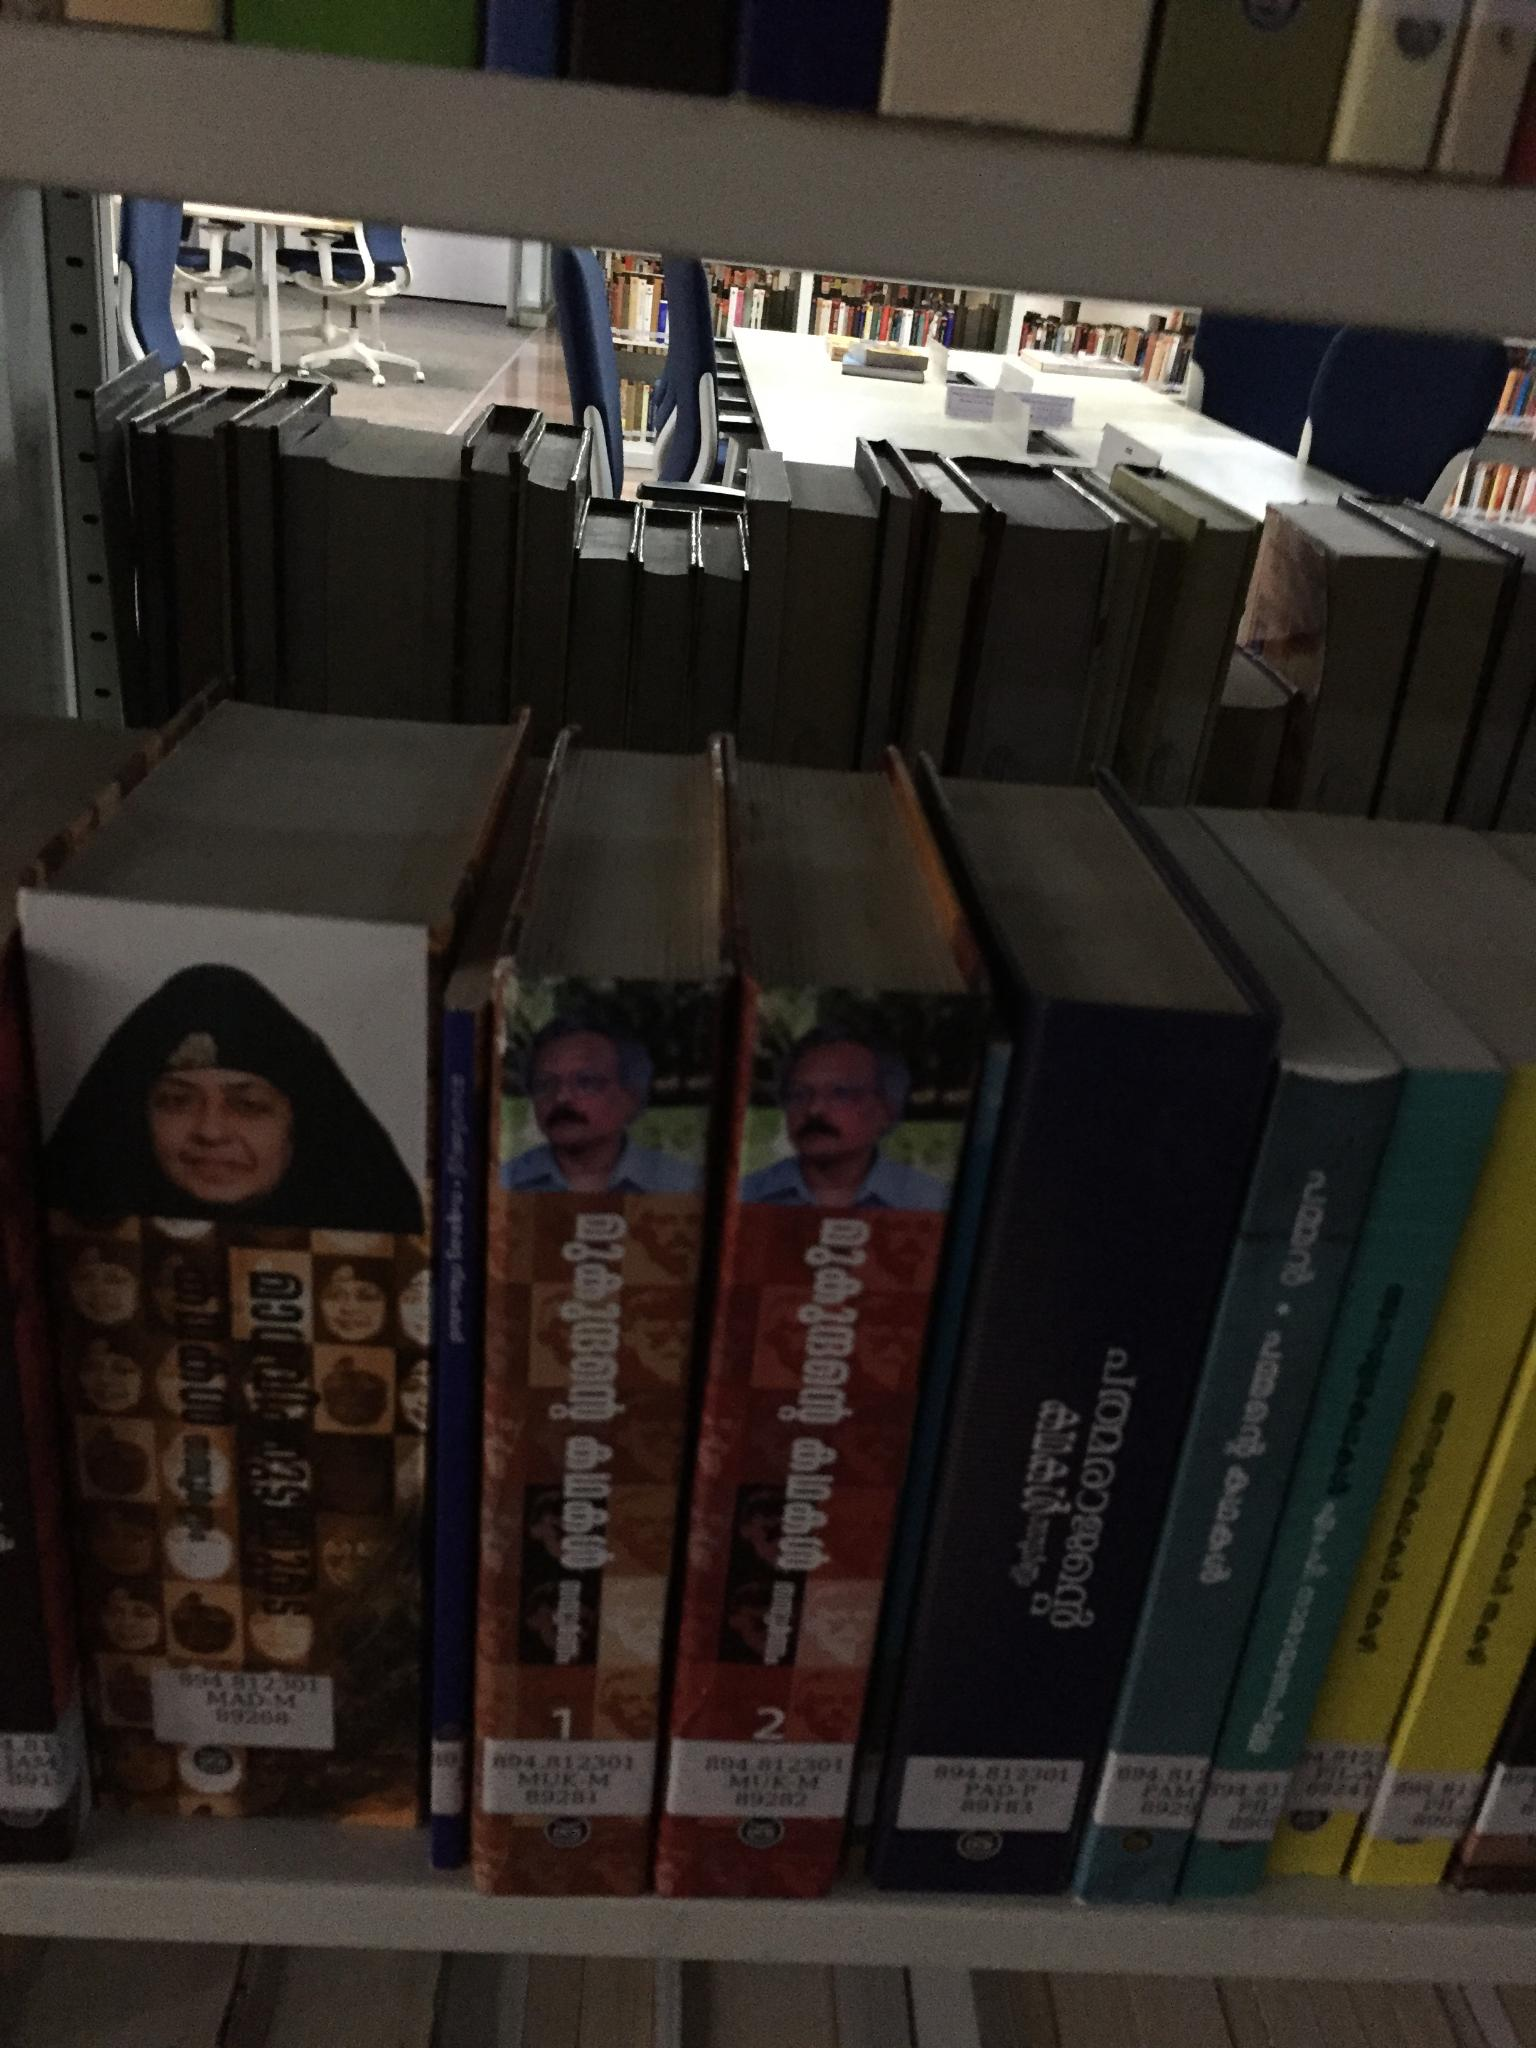chair: (1312, 326, 1528, 534), (641, 242, 797, 513), (1160, 279, 1317, 484), (529, 250, 644, 490), (94, 161, 216, 384), (274, 219, 424, 387)
